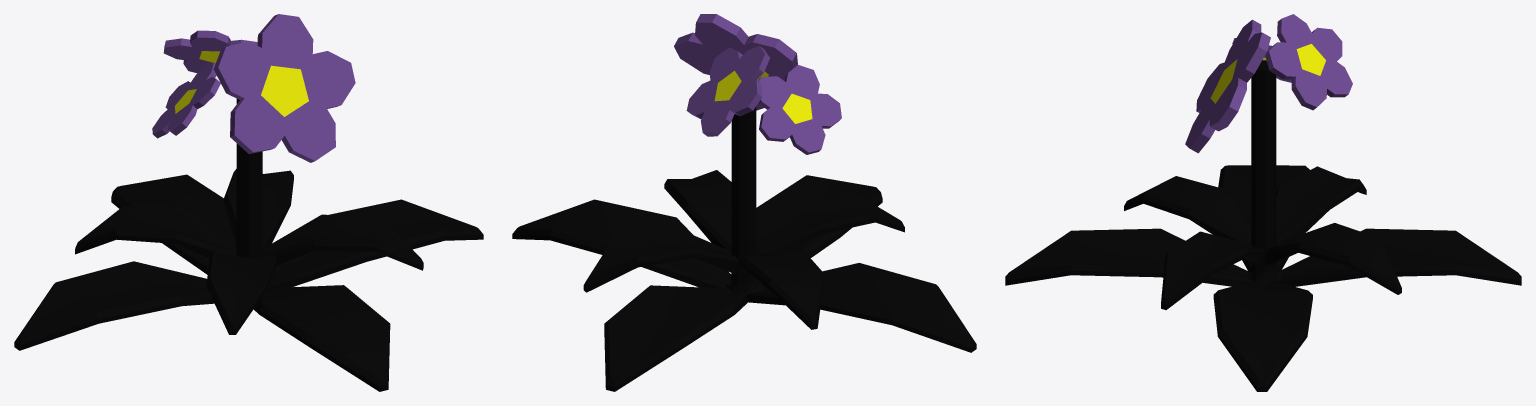
File: PurpleTallFlower.fbx
3 renders of one model, left to right at view 1: azimuth 30°, elevation 25°; view 2: azimuth 150°, elevation 25°; view 3: azimuth 270°, elevation 25°, orthographic. The views are drawn at different scales.
Visible parts, largest first — view 1: PurpleTallFlower; view 2: PurpleTallFlower; view 3: PurpleTallFlower.
Part boxes in pixels (left/top/right/bottom): PurpleTallFlower: left=14, top=14, right=483, bottom=391; PurpleTallFlower: left=512, top=14, right=976, bottom=391; PurpleTallFlower: left=1005, top=14, right=1521, bottom=391.
Size of the model in its own units: 2.62 by 1.49 by 2.62.
